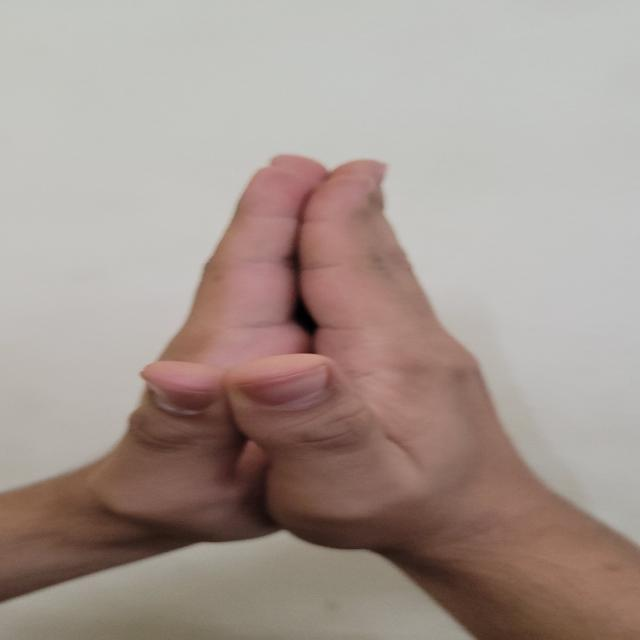Thank You: (44, 124, 600, 594)
